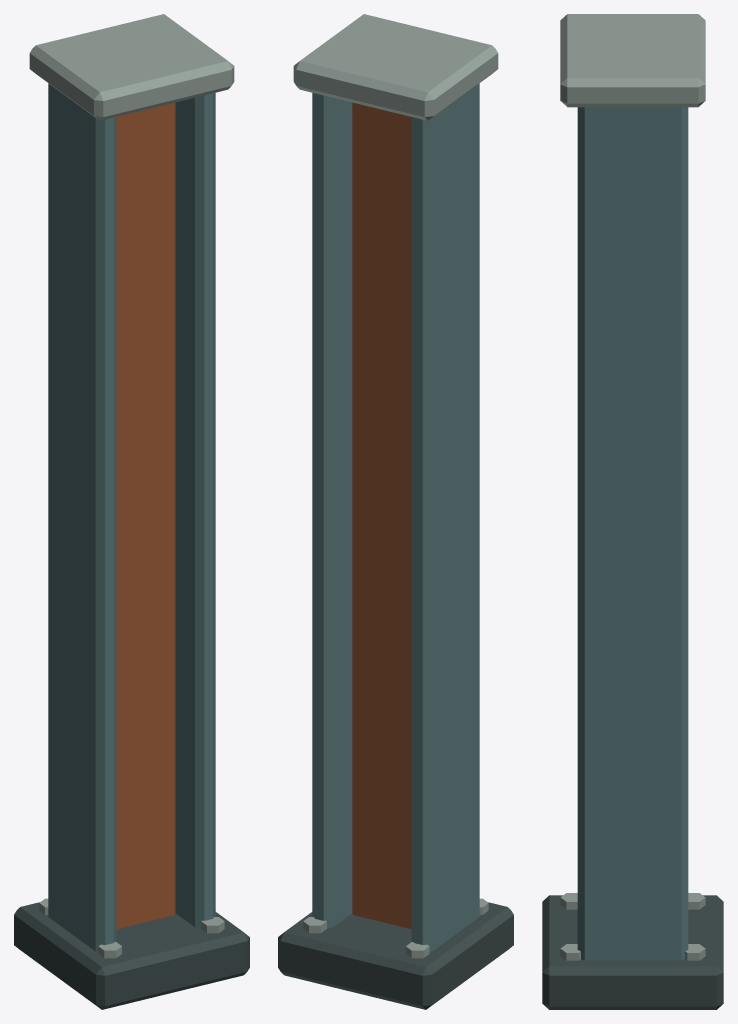
Rendered from Column_5m.glb.
3 views of the same model, side by side, from view 1: azimuth 30°, elevation 25°; view 2: azimuth 150°, elevation 25°; view 3: azimuth 270°, elevation 25° (orthographic). The views are drawn at different scales.
Visible parts, largest first — view 1: Column_5m; view 2: Column_5m; view 3: Column_5m.
Boxes of the visible parts, <box> form: Column_5m: <box>14,14,249,1009</box>; Column_5m: <box>278,14,513,1009</box>; Column_5m: <box>542,14,723,1009</box>.
Bounding box in the file's own units: 0.9 × 5.08 × 0.9.
